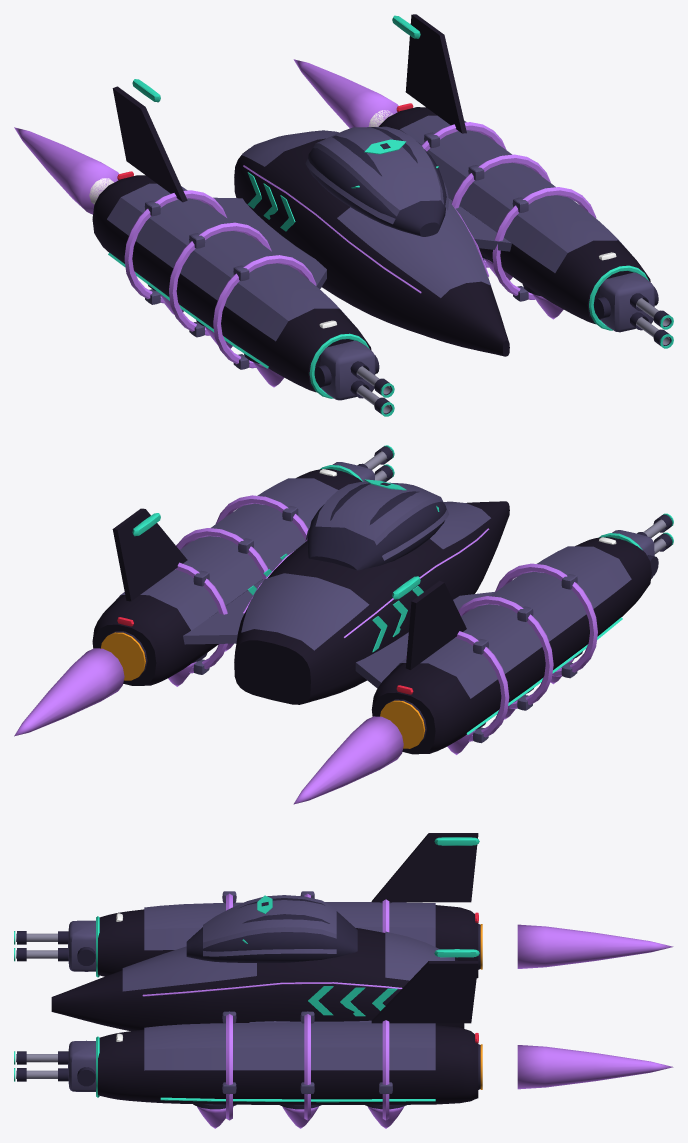
Rendered from skimmer_b.glb.
The picture shows the model from 3 angles, top to bottom: view 1: azimuth 30°, elevation 25°; view 2: azimuth 150°, elevation 25°; view 3: azimuth 270°, elevation 25°; orthographic projection. The views are drawn at different scales.
Visible parts, largest first — view 1: fuselage, nacCapL, nacCapR, nacelleL, spine1, bridgeCollar, nacelleR, bridge, finR, finL, plumeL_flame, plumeR_flame (+13 smaller); view 2: fuselage, nacCapL, nacelleL, nacCapR, spine0, nacelleR, bridge, bridgeCollar, plumeL_flame, plumeR_flame, finR, finL (+11 smaller); view 3: fuselage, nacelleR, nacCapR, nacCapL, finL, finR, bridgeCollar, nacelleL, bridge, plumeL_flame, plumeR_flame, spine1 (+8 smaller).
Part boxes in pixels (x1,y1,x2,y2): fuselage: (234,138,509,356); nacCapL: (107,183,349,341); nacCapR: (399,115,629,272); nacelleL: (92,175,371,392); spine1: (337,201,490,297); bridgeCollar: (305,126,449,224); nacelleR: (378,107,650,324); bridge: (308,127,446,236); finR: (405,14,466,133); finL: (112,86,187,202); plumeL_flame: (14,127,119,214); plumeR_flame: (293,59,398,128); fuselage: (234,501,509,704); nacCapL: (395,546,631,698); nacelleL: (371,537,651,754); nacCapR: (116,478,338,630); spine0: (241,573,369,650); nacelleR: (92,469,362,685); bridge: (307,483,446,570); bridgeCollar: (305,482,448,560); plumeL_flame: (293,716,403,804); plumeR_flame: (14,648,124,736); finR: (112,508,187,601); finL: (405,580,466,669); fuselage: (51,928,464,1030); nacelleR: (98,1025,478,1104); nacCapR: (144,1022,435,1070); nacCapL: (144,902,435,950); finL: (371,833,478,902); finR: (371,961,478,1023); bridgeCollar: (203,895,336,956); nacelleL: (98,905,478,978); bridge: (186,898,357,963); plumeL_flame: (517,924,673,968); plumeR_flame: (517,1045,673,1089); spine1: (122,946,256,991).
Bounding box in the file's own units: 5.52 × 2.71 × 9.28.
